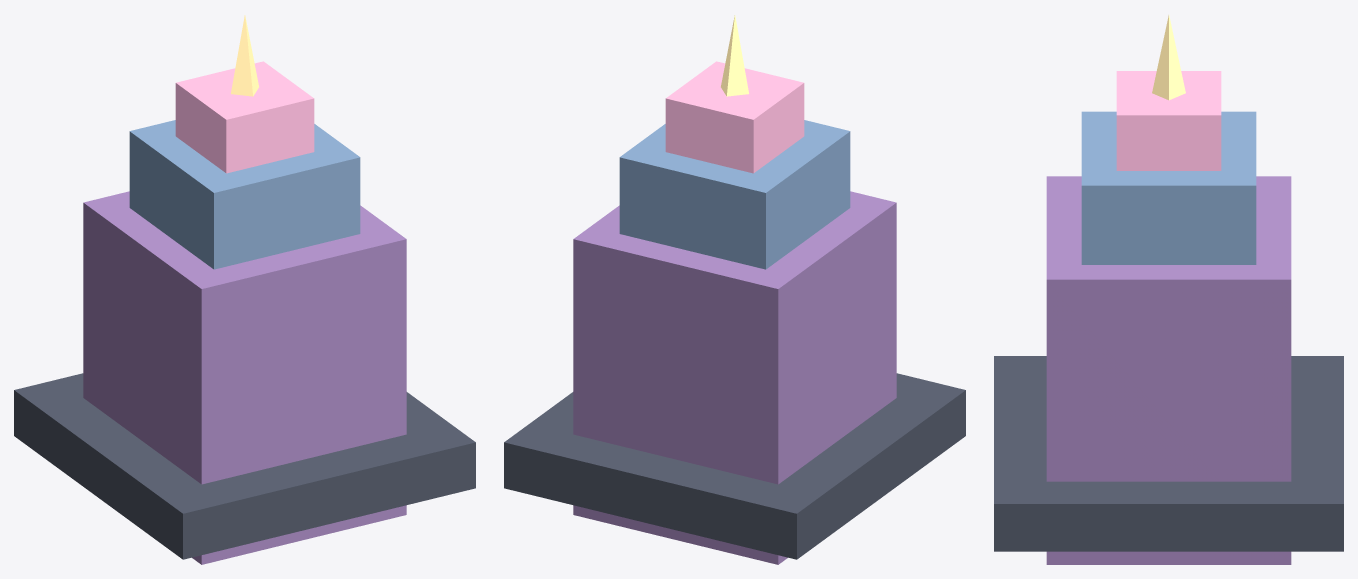
Rendered from spire_building.glb.
3 views of the same model, side by side, from view 1: azimuth 30°, elevation 25°; view 2: azimuth 150°, elevation 25°; view 3: azimuth 270°, elevation 25° (orthographic). The views are drawn at different scales.
Parts seen in each view (by area): view 1: SpireBuilding; view 2: SpireBuilding; view 3: SpireBuilding.
Boxes of the visible parts, x1,y1,x2,y2 form: SpireBuilding: (14, 15, 475, 564); SpireBuilding: (504, 15, 965, 564); SpireBuilding: (994, 15, 1343, 564).
Size of the model in its own units: 5.08 by 8 by 5.08.
